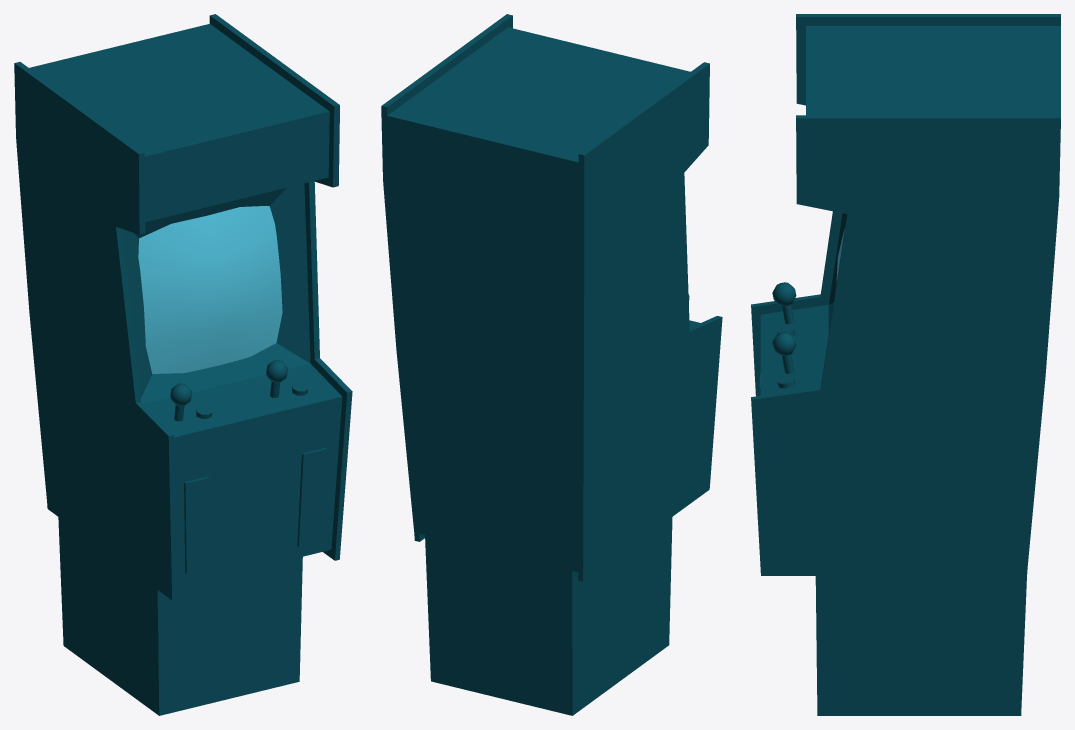
File: arcade_bl.fbx
The picture shows the model from 3 angles, left to right: view 1: azimuth 30°, elevation 25°; view 2: azimuth 150°, elevation 25°; view 3: azimuth 270°, elevation 25°; orthographic projection. The views are drawn at different scales.
Visible parts, largest first — view 1: Arcade_BL, Screen_Plane; view 2: Arcade_BL; view 3: Arcade_BL.
Part boxes in pixels (box(x1,y1,x2,y2)): Arcade_BL: box(14, 14, 352, 715); Screen_Plane: box(138, 206, 282, 373); Arcade_BL: box(381, 14, 722, 715); Arcade_BL: box(751, 14, 1060, 715).
Bounding box in the file's own units: 0.7875 × 2.16 × 0.9869.
